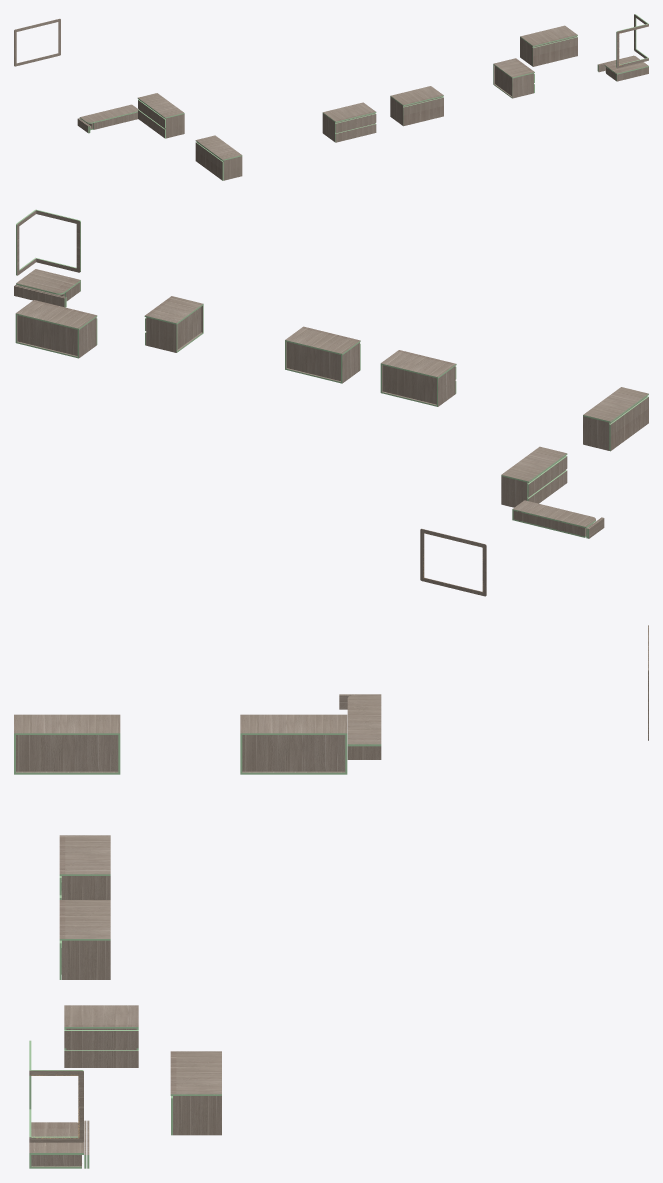
3 renders of one model, top to bottom at view 1: azimuth 30°, elevation 25°; view 2: azimuth 150°, elevation 25°; view 3: azimuth 270°, elevation 25°, orthographic. The views are drawn at different scales.
Parts seen in each view (by area): view 1: Geom3D_ABF_PART_452____LYR_[CANH]____452. PN3-TAB TREO[2]CÁN, Geom3D_ABF_PART_284____LYR_[CANH]____284. PN2-TAB TREO[2]CÁN, Geom3D_ABF_PART_466____LYR_[Layer0]____466. PN3-TAB TREO[2]N, Geom3D_ABF_PART_238____LYR_[Layer0]____238. PN1-TAB TREO[1]N, Geom3D_ABF_PART_276____LYR_[Layer0]____276. PN2-TAB TREO[2]N, Geom3D_ABF_PART_422____LYR_[Layer0]____422. PN2-TAB TREO[1]N, Geom3D_ABF_PART_428____LYR_[Layer0]____428. PN1-TAB TREO[2]N, Geom3D_ABF_PART_461____LYR_[CANH]____461. PN1-TAB TREO[2]CÁN, Geom3D_ABF_PART_508____LYR_[Layer0]____508, Geom3D_ABF_PART_220____LYR_[Layer0]____220. PN1-BÀN PHẤN-NÓC, Geom3D_ABF_PART_497____LYR_[Layer0]____497. PN3-TAB TREO[1]H, Geom3D_ABF_PART_441____LYR_[Layer0]____441. PN3-TAB TREO[1]N (+10 smaller); view 2: Geom3D_ABF_PART_453____LYR_[Layer0]____453. PN3-TAB TREO[2]H, Geom3D_ABF_PART_413____LYR_[Layer0]____413. PN2-TAB TREO[1]H, Geom3D_ABF_PART_282____LYR_[Layer0]____282. PN2-TAB TREO[2]H, Geom3D_ABF_PART_466____LYR_[Layer0]____466. PN3-TAB TREO[2]N, Geom3D_ABF_PART_238____LYR_[Layer0]____238. PN1-TAB TREO[1]N, Geom3D_ABF_PART_422____LYR_[Layer0]____422. PN2-TAB TREO[1]N, Geom3D_ABF_PART_276____LYR_[Layer0]____276. PN2-TAB TREO[2]N, Geom3D_ABF_PART_428____LYR_[Layer0]____428. PN1-TAB TREO[2]N, Geom3D_ABF_PART_461____LYR_[CANH]____461. PN1-TAB TREO[2]CÁN, Geom3D_ABF_PART_508____LYR_[Layer0]____508, Geom3D_ABF_PART_220____LYR_[Layer0]____220. PN1-BÀN PHẤN-NÓC, Geom3D_ABF_PART_475____LYR_[Layer0]____475. PN3-BÀN PHẤN-NÓC (+7 smaller); view 3: Geom3D_ABF_PART_240____LYR_[Layer0]____240. PN1-TAB TREO[1]H, Geom3D_ABF_PART_429____LYR_[Layer0]____429. PN1-TAB TREO[2]H, Geom3D_ABF_PART_466____LYR_[Layer0]____466. PN3-TAB TREO[2]N, Geom3D_ABF_PART_238____LYR_[Layer0]____238. PN1-TAB TREO[1]N, Geom3D_ABF_PART_428____LYR_[Layer0]____428. PN1-TAB TREO[2]N, Geom3D_ABF_PART_422____LYR_[Layer0]____422. PN2-TAB TREO[1]N, Geom3D_ABF_PART_276____LYR_[Layer0]____276. PN2-TAB TREO[2]N, Geom3D_ABF_PART_279____LYR_[Layer0]____279. PN2-TAB TREO[2]H, Geom3D_ABF_PART_464____LYR_[Layer0]____464. PN3-TAB TREO[2]H, Geom3D_ABF_PART_220____LYR_[Layer0]____220. PN1-BÀN PHẤN-NÓC, Geom3D_ABF_PART_441____LYR_[Layer0]____441. PN3-TAB TREO[1]N, Geom3D_ABF_PART_451____LYR_[CANH]____451. PN3-TAB TREO[1]CÁN (+4 smaller).
Boxes of the visible parts, bbox=[...] form: Geom3D_ABF_PART_452____LYR_[CANH]____452. PN3-TAB TREO[2]CÁN: bbox=[533, 37, 577, 66]; Geom3D_ABF_PART_284____LYR_[CANH]____284. PN2-TAB TREO[2]CÁN: bbox=[403, 97, 443, 126]; Geom3D_ABF_PART_466____LYR_[Layer0]____466. PN3-TAB TREO[2]N: bbox=[520, 25, 577, 45]; Geom3D_ABF_PART_238____LYR_[Layer0]____238. PN1-TAB TREO[1]N: bbox=[138, 93, 183, 117]; Geom3D_ABF_PART_276____LYR_[Layer0]____276. PN2-TAB TREO[2]N: bbox=[390, 86, 443, 105]; Geom3D_ABF_PART_422____LYR_[Layer0]____422. PN2-TAB TREO[1]N: bbox=[323, 102, 375, 121]; Geom3D_ABF_PART_428____LYR_[Layer0]____428. PN1-TAB TREO[2]N: bbox=[196, 135, 241, 159]; Geom3D_ABF_PART_461____LYR_[CANH]____461. PN1-TAB TREO[2]CÁN: bbox=[195, 142, 222, 180]; Geom3D_ABF_PART_508____LYR_[Layer0]____508: bbox=[14, 18, 60, 66]; Geom3D_ABF_PART_220____LYR_[Layer0]____220. PN1-BÀN PHẤN-NÓC: bbox=[80, 104, 138, 122]; Geom3D_ABF_PART_497____LYR_[Layer0]____497. PN3-TAB TREO[1]H: bbox=[512, 73, 533, 98]; Geom3D_ABF_PART_441____LYR_[Layer0]____441. PN3-TAB TREO[1]N: bbox=[494, 58, 534, 77]; Geom3D_ABF_PART_453____LYR_[Layer0]____453. PN3-TAB TREO[2]H: bbox=[17, 315, 77, 355]; Geom3D_ABF_PART_413____LYR_[Layer0]____413. PN2-TAB TREO[1]H: bbox=[382, 365, 436, 404]; Geom3D_ABF_PART_282____LYR_[Layer0]____282. PN2-TAB TREO[2]H: bbox=[287, 342, 340, 380]; Geom3D_ABF_PART_466____LYR_[Layer0]____466. PN3-TAB TREO[2]N: bbox=[16, 300, 96, 328]; Geom3D_ABF_PART_238____LYR_[Layer0]____238. PN1-TAB TREO[1]N: bbox=[501, 446, 566, 481]; Geom3D_ABF_PART_422____LYR_[Layer0]____422. PN2-TAB TREO[1]N: bbox=[381, 350, 455, 377]; Geom3D_ABF_PART_276____LYR_[Layer0]____276. PN2-TAB TREO[2]N: bbox=[285, 326, 360, 353]; Geom3D_ABF_PART_428____LYR_[Layer0]____428. PN1-TAB TREO[2]N: bbox=[583, 387, 648, 421]; Geom3D_ABF_PART_461____LYR_[CANH]____461. PN1-TAB TREO[2]CÁN: bbox=[610, 397, 648, 450]; Geom3D_ABF_PART_508____LYR_[Layer0]____508: bbox=[420, 528, 486, 596]; Geom3D_ABF_PART_220____LYR_[Layer0]____220. PN1-BÀN PHẤN-NÓC: bbox=[513, 500, 595, 526]; Geom3D_ABF_PART_475____LYR_[Layer0]____475. PN3-BÀN PHẤN-NÓC: bbox=[16, 269, 80, 293]; Geom3D_ABF_PART_240____LYR_[Layer0]____240. PN1-TAB TREO[1]H: bbox=[242, 735, 345, 771]; Geom3D_ABF_PART_429____LYR_[Layer0]____429. PN1-TAB TREO[2]H: bbox=[16, 735, 118, 771]; Geom3D_ABF_PART_466____LYR_[Layer0]____466. PN3-TAB TREO[2]N: bbox=[170, 1051, 221, 1094]; Geom3D_ABF_PART_238____LYR_[Layer0]____238. PN1-TAB TREO[1]N: bbox=[240, 714, 347, 733]; Geom3D_ABF_PART_428____LYR_[Layer0]____428. PN1-TAB TREO[2]N: bbox=[14, 714, 120, 733]; Geom3D_ABF_PART_422____LYR_[Layer0]____422. PN2-TAB TREO[1]N: bbox=[59, 835, 110, 874]; Geom3D_ABF_PART_276____LYR_[Layer0]____276. PN2-TAB TREO[2]N: bbox=[59, 900, 110, 938]; Geom3D_ABF_PART_279____LYR_[Layer0]____279. PN2-TAB TREO[2]H: bbox=[62, 940, 110, 979]; Geom3D_ABF_PART_464____LYR_[Layer0]____464. PN3-TAB TREO[2]H: bbox=[173, 1096, 221, 1135]; Geom3D_ABF_PART_220____LYR_[Layer0]____220. PN1-BÀN PHẤN-NÓC: bbox=[347, 694, 381, 744]; Geom3D_ABF_PART_441____LYR_[Layer0]____441. PN3-TAB TREO[1]N: bbox=[64, 1005, 138, 1026]; Geom3D_ABF_PART_451____LYR_[CANH]____451. PN3-TAB TREO[1]CÁN: bbox=[64, 1031, 138, 1048].
Bounding box in the file's own units: 9.59 × 0.9525 × 5.59.
6 materials, 1 textured.
